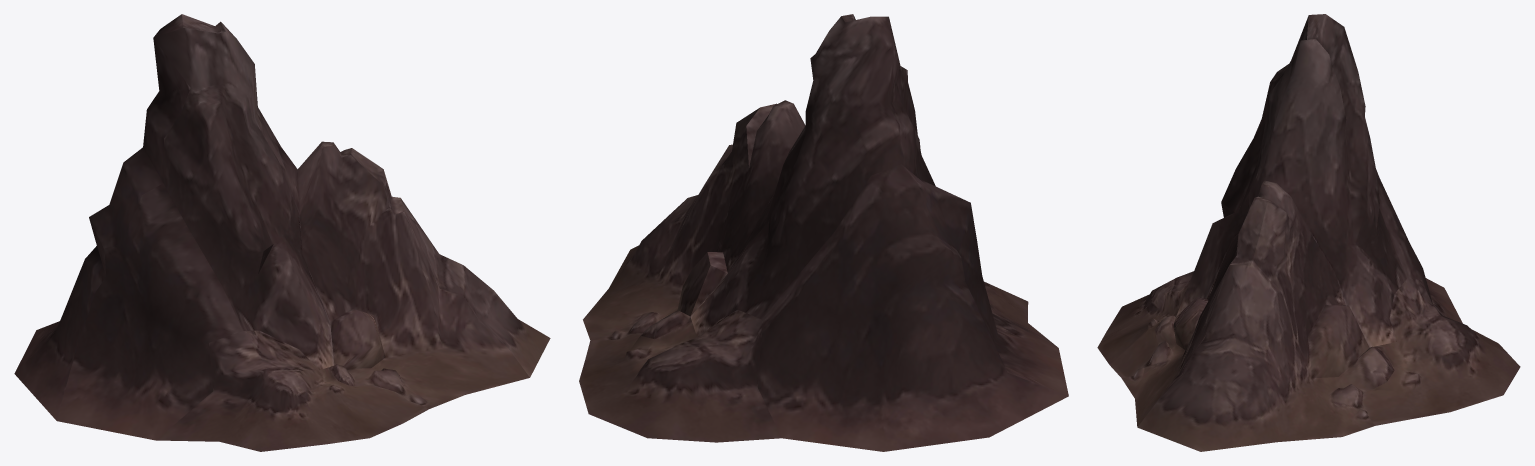
The model's file is sysd_stone04a.FBX.
3 renders of one model, left to right at view 1: azimuth 30°, elevation 25°; view 2: azimuth 150°, elevation 25°; view 3: azimuth 270°, elevation 25°, orthographic. The views are drawn at different scales.
Parts seen in each view (by area): view 1: sysd_stone04a; view 2: sysd_stone04a; view 3: sysd_stone04a.
Part boxes in pixels (x1,y1,x2,y2): sysd_stone04a: (14,14,550,451); sysd_stone04a: (579,14,1068,451); sysd_stone04a: (1097,14,1520,451).
Bounding box in the file's own units: 1568 × 1137 × 1415.
